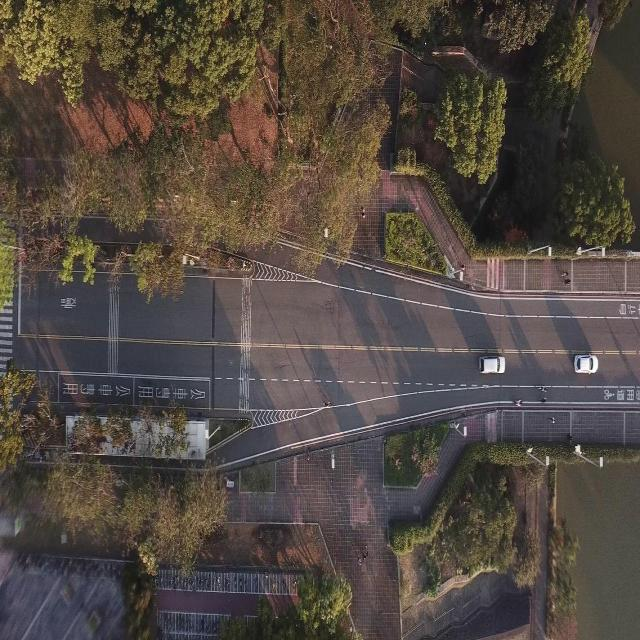car: (572, 353, 598, 374), (478, 353, 504, 374)
